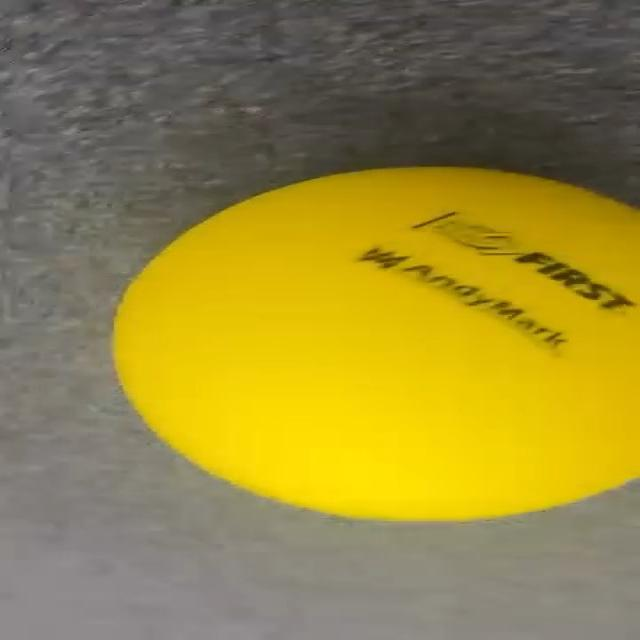Fuels: (116, 167, 638, 519)
